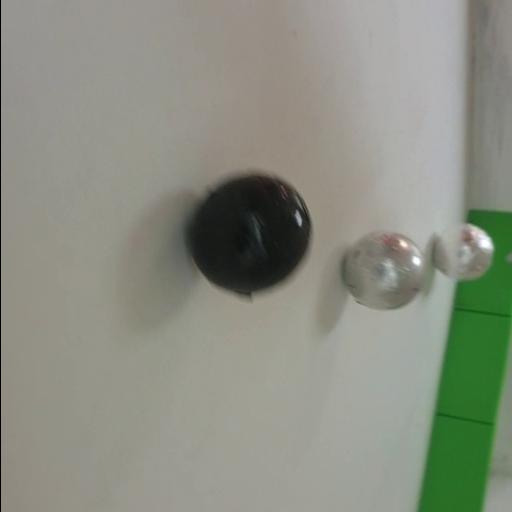alive: (342, 232, 426, 312), (430, 222, 494, 280)
dead: (186, 170, 315, 302)
